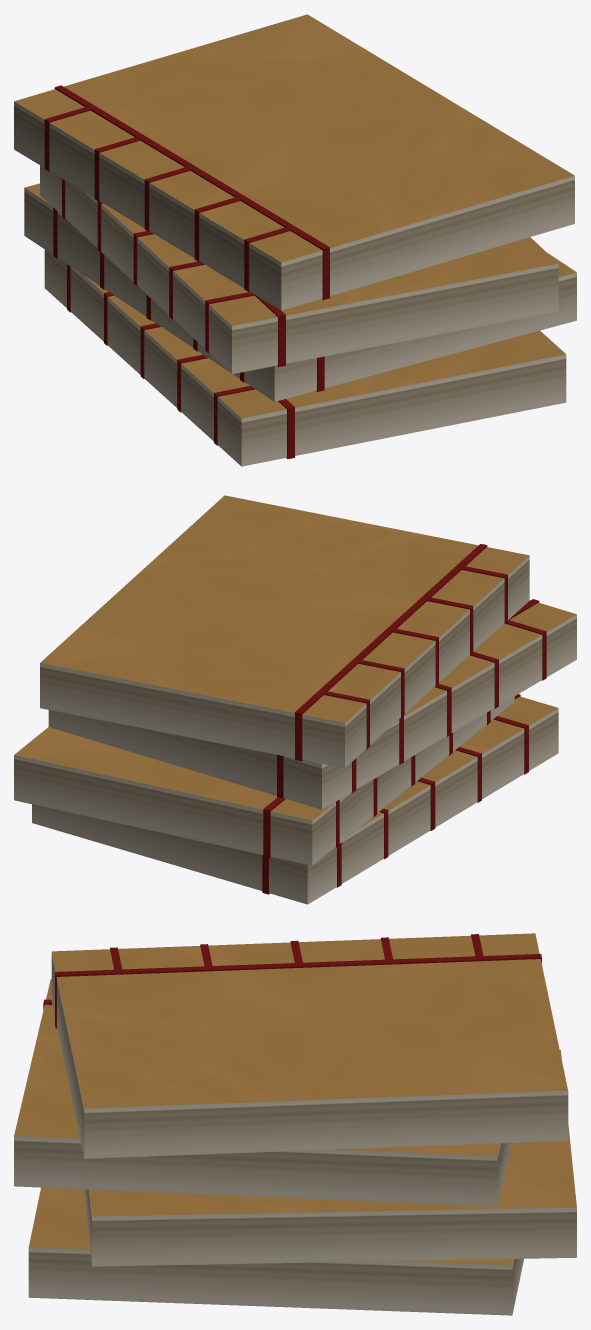
Rendered from library_loom_book_02.fbx.
3 views of the same model, one above another, from view 1: azimuth 30°, elevation 25°; view 2: azimuth 150°, elevation 25°; view 3: azimuth 270°, elevation 25° (orthographic). The views are drawn at different scales.
Parts seen in each view (by area): view 1: book.1-3_lo.001, book.1-1_lo, book.1-3_lo, book.1-2_lo; view 2: book.1-3_lo.001, book.1-2_lo, book.1-3_lo, book.1-1_lo; view 3: book.1-3_lo.001, book.1-2_lo, book.1-3_lo, book.1-1_lo.
Boxes of the visible parts, <box> form: book.1-3_lo.001: <box>14,14,574,310</box>; book.1-1_lo: <box>44,249,566,466</box>; book.1-3_lo: <box>40,165,558,374</box>; book.1-2_lo: <box>24,183,576,401</box>; book.1-3_lo.001: <box>40,495,529,767</box>; book.1-2_lo: <box>14,696,514,865</box>; book.1-3_lo: <box>48,599,576,809</box>; book.1-1_lo: <box>32,694,558,904</box>; book.1-3_lo.001: <box>51,933,568,1158</box>; book.1-2_lo: <box>84,1050,576,1266</box>; book.1-3_lo: <box>14,979,511,1206</box>; book.1-1_lo: <box>28,1187,523,1315</box>.
Size of the model in its own units: 33.72 by 17.79 by 43.27.
